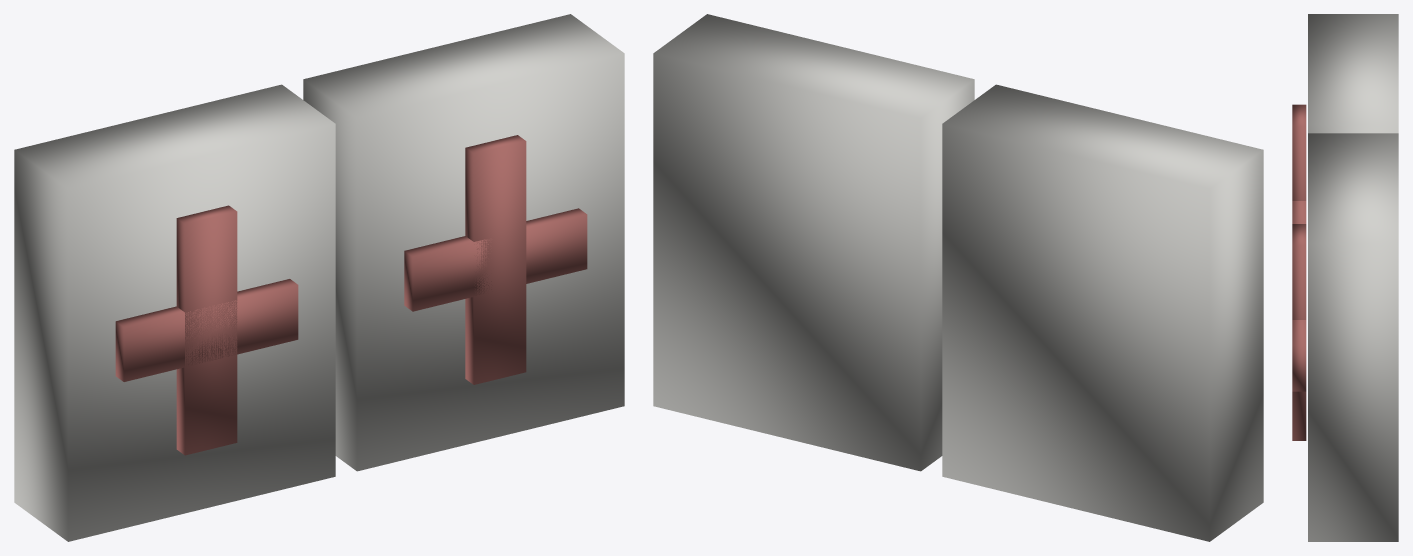
Rendered from first_aid_wall_cabinet__cluster.glb.
The picture shows the model from 3 angles, left to right: view 1: azimuth 30°, elevation 25°; view 2: azimuth 150°, elevation 25°; view 3: azimuth 270°, elevation 25°; orthographic projection. The views are drawn at different scales.
Parts seen in each view (by area): view 1: world; view 2: world; view 3: world.
Boxes of the visible parts, left/top/right/bottom form: world: left=14, top=14, right=624, bottom=541; world: left=653, top=14, right=1263, bottom=541; world: left=1292, top=14, right=1398, bottom=541.
Size of the model in its own units: 0.9568 by 0.58 by 0.1875.
